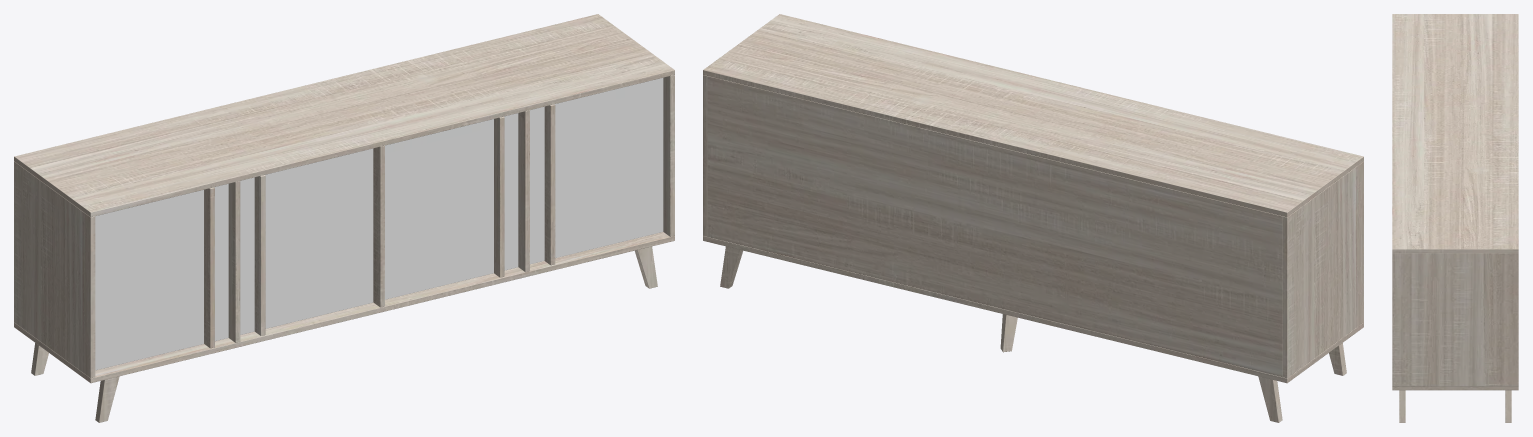
Rendered from abo-B07H8NZH9P.glb.
The picture shows the model from 3 angles, left to right: view 1: azimuth 30°, elevation 25°; view 2: azimuth 150°, elevation 25°; view 3: azimuth 270°, elevation 25°; orthographic projection. The views are drawn at different scales.
Size of the model in its own units: 2.2 by 0.7801 by 0.4999.
Materials: 1 (1 with a texture image).
